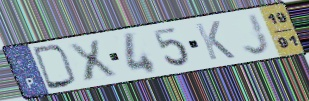4: (121, 31, 159, 76)
5: (151, 25, 192, 69)
D: (30, 44, 80, 91)
J: (240, 11, 273, 56)
K: (193, 19, 239, 62)
X: (64, 38, 121, 83)
